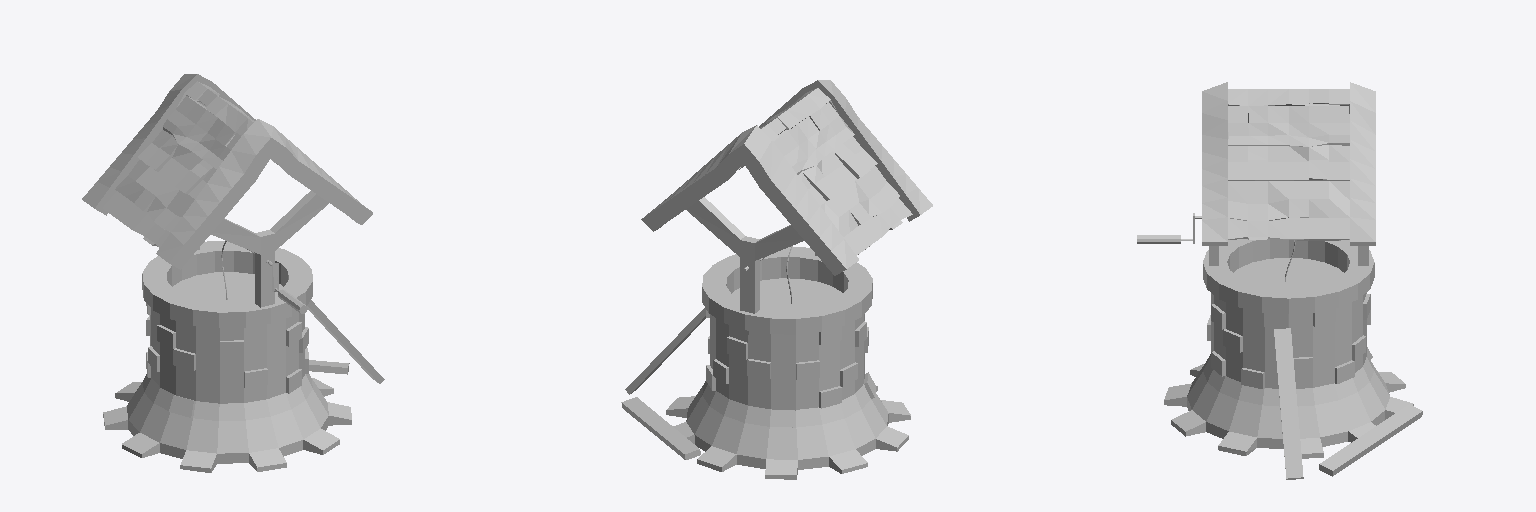
The model's file is Well_HighPoly.obj.
The picture shows the model from 3 angles: view 1: azimuth 30°, elevation 25°; view 2: azimuth 150°, elevation 25°; view 3: azimuth 270°, elevation 25°; orthographic projection.
Visible parts, largest first — view 1: High_Polly Well_Geo Stone_High, High_Polly Well_Geo Roof_High, High_Polly Well_Geo Beam_Front_High, High_Polly Well_Geo Plank2_High, High_Polly Well_Geo Crank_High; view 2: High_Polly Well_Geo Stone_High, High_Polly Well_Geo Roof_High, High_Polly Well_Geo Beam_Back_High, Plank1_High High_Polly Well_Geo, High_Polly Well_Geo Plank2_High; view 3: High_Polly Well_Geo Stone_High, High_Polly Well_Geo Roof_High, High_Polly Well_Geo Plank2_High, Plank1_High High_Polly Well_Geo.
Part boxes in pixels (left/top/right/bottom): High_Polly Well_Geo Stone_High: left=103, top=241, right=351, bottom=472; High_Polly Well_Geo Roof_High: left=82, top=74, right=372, bottom=269; High_Polly Well_Geo Beam_Front_High: left=211, top=191, right=328, bottom=307; High_Polly Well_Geo Plank2_High: left=307, top=300, right=384, bottom=383; High_Polly Well_Geo Crank_High: left=249, top=250, right=307, bottom=313; High_Polly Well_Geo Stone_High: left=666, top=247, right=910, bottom=479; High_Polly Well_Geo Roof_High: left=641, top=80, right=932, bottom=275; High_Polly Well_Geo Beam_Back_High: left=686, top=197, right=803, bottom=313; Plank1_High High_Polly Well_Geo: left=621, top=397, right=700, bottom=459; High_Polly Well_Geo Plank2_High: left=625, top=308, right=705, bottom=394; High_Polly Well_Geo Stone_High: left=1164, top=239, right=1413, bottom=458; High_Polly Well_Geo Roof_High: left=1202, top=82, right=1375, bottom=245; High_Polly Well_Geo Plank2_High: left=1274, top=328, right=1303, bottom=479; Plank1_High High_Polly Well_Geo: left=1319, top=404, right=1422, bottom=476.
Bounding box in the file's own units: 3.91 × 4.59 × 3.66.